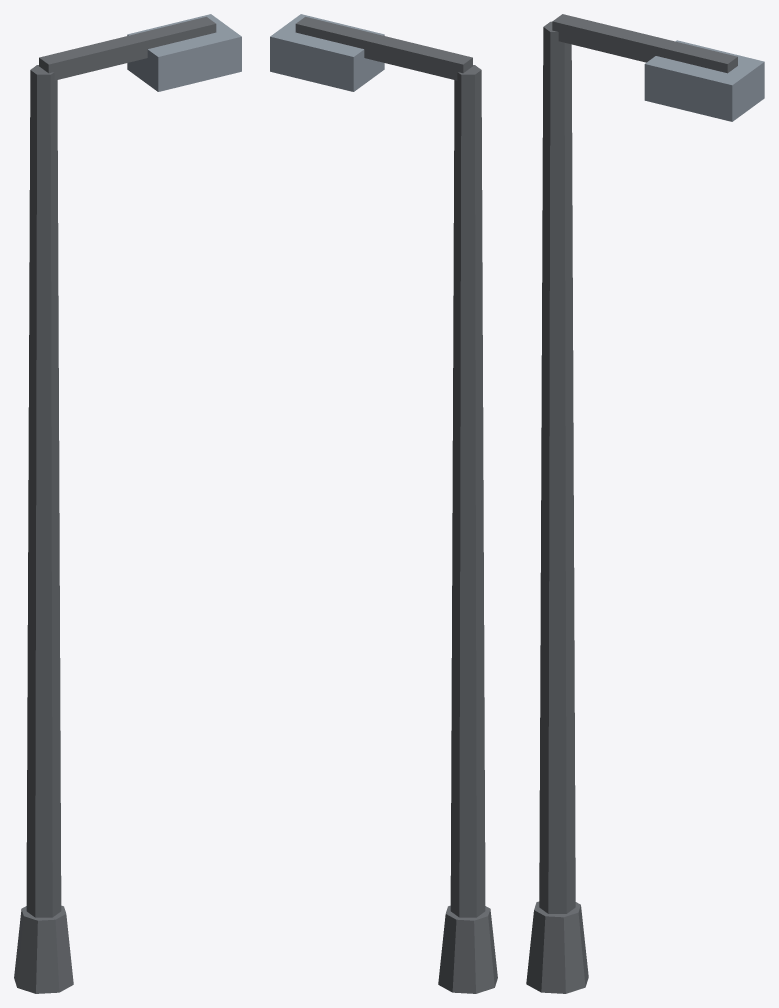
The model's file is lamp-post.glb.
3 renders of one model, left to right at view 1: azimuth 30°, elevation 25°; view 2: azimuth 150°, elevation 25°; view 3: azimuth 330°, elevation 25°, orthographic. The views are drawn at different scales.
Visible parts, largest first — view 1: pole, lamp, base, arm; view 2: pole, lamp, base, arm; view 3: pole, lamp, base, arm.
Boxes of the visible parts, bbox=[...] form: pole: bbox=[26, 65, 61, 917]; lamp: bbox=[127, 14, 241, 91]; base: bbox=[14, 905, 73, 993]; arm: bbox=[39, 16, 216, 80]; pole: bbox=[450, 65, 485, 917]; lamp: bbox=[270, 14, 384, 91]; base: bbox=[438, 905, 497, 993]; arm: bbox=[295, 16, 472, 80]; pole: bbox=[539, 21, 575, 913]; lamp: bbox=[644, 40, 764, 121]; base: bbox=[526, 901, 588, 993]; arm: bbox=[552, 14, 737, 73].
Size of the model in its own units: 0.625 by 2.63 by 0.16.
